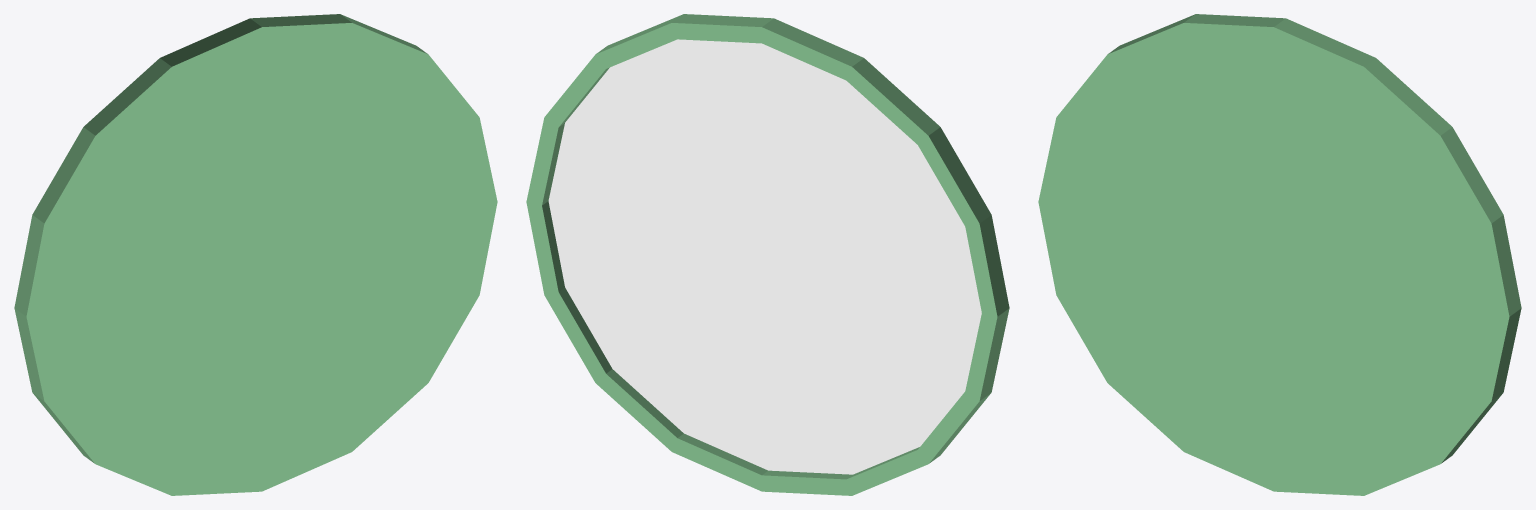
The model's file is Round Mirror.fbx.
The picture shows the model from 3 angles, left to right: view 1: azimuth 30°, elevation 25°; view 2: azimuth 150°, elevation 25°; view 3: azimuth 330°, elevation 25°; orthographic projection.
Visible parts, largest first — view 1: Node 0; view 2: Node 0; view 3: Node 0.
Part boxes in pixels (x1,y1,x2,y2): Node 0: (14, 14, 497, 495); Node 0: (526, 14, 1009, 495); Node 0: (1038, 14, 1521, 495).
Bounding box in the file's own units: 0.0325 × 0.688 × 0.7303.
